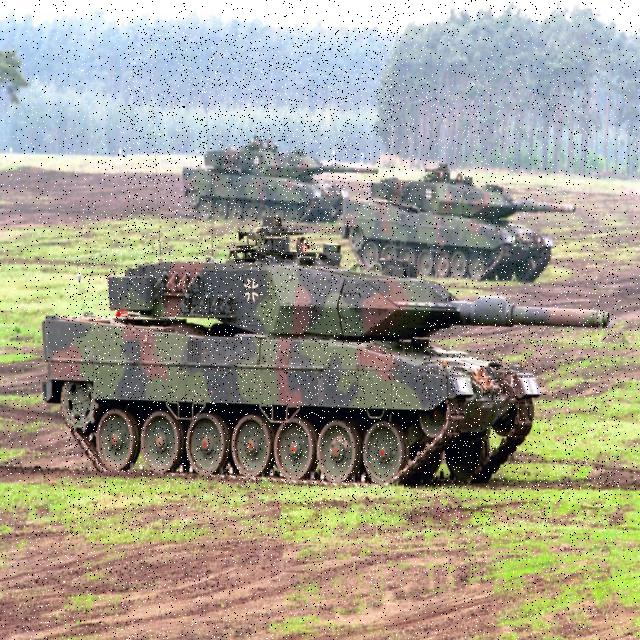MIL_MBT: (65, 216, 620, 534), (334, 85, 589, 322), (127, 27, 398, 230)
